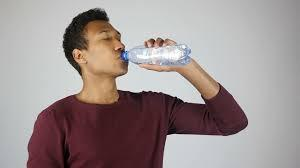Drinking: (70, 19, 191, 77)
